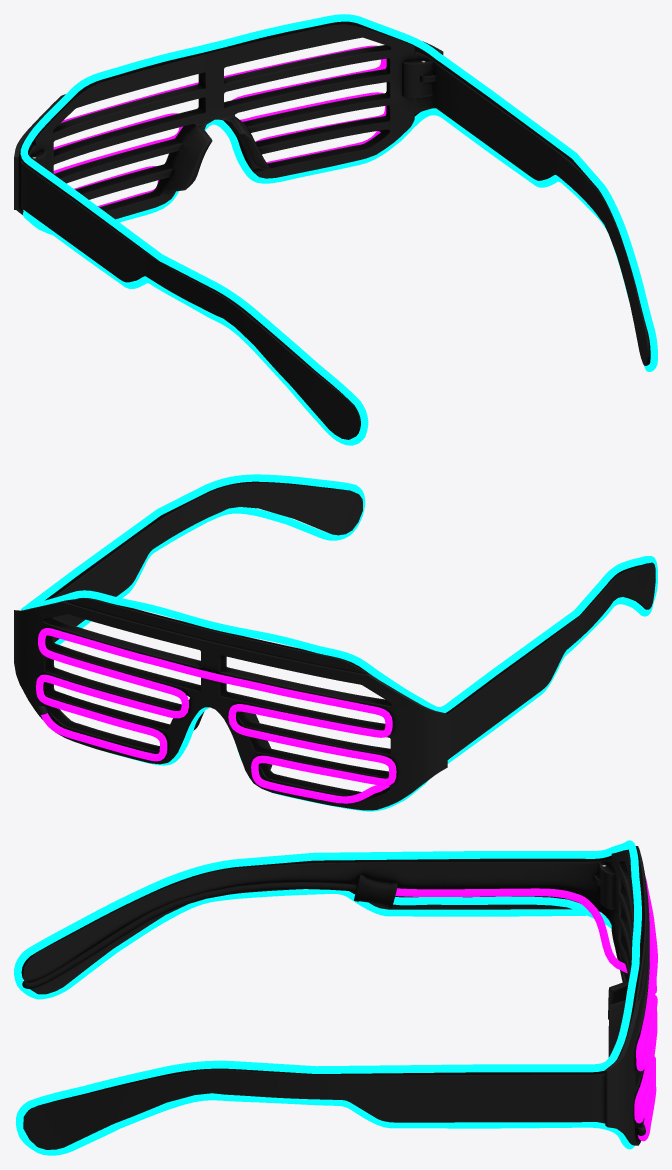
The model's file is neon_party_glasses.glb.
The picture shows the model from 3 angles, top to bottom: view 1: azimuth 30°, elevation 25°; view 2: azimuth 150°, elevation 25°; view 3: azimuth 270°, elevation 25°; orthographic projection. The views are drawn at different scales.
Parts seen in each view (by area): view 1: Cube.010_4, Cube.007_2; view 2: Cube.010_4, Cube.007_2; view 3: Cube.010_4, Cube.007_2.
Part boxes in pixels (box(x1,y1,x2,y2)): Cube.010_4: box(14, 21, 650, 439); Cube.007_2: box(20, 14, 657, 445); Cube.010_4: box(14, 481, 655, 810); Cube.007_2: box(20, 474, 657, 811); Cube.010_4: box(21, 846, 649, 1149); Cube.007_2: box(14, 840, 657, 1155).
Bounding box in the file's own units: 0.8924 × 0.3175 × 1.1.
2 materials, 2 textured.
